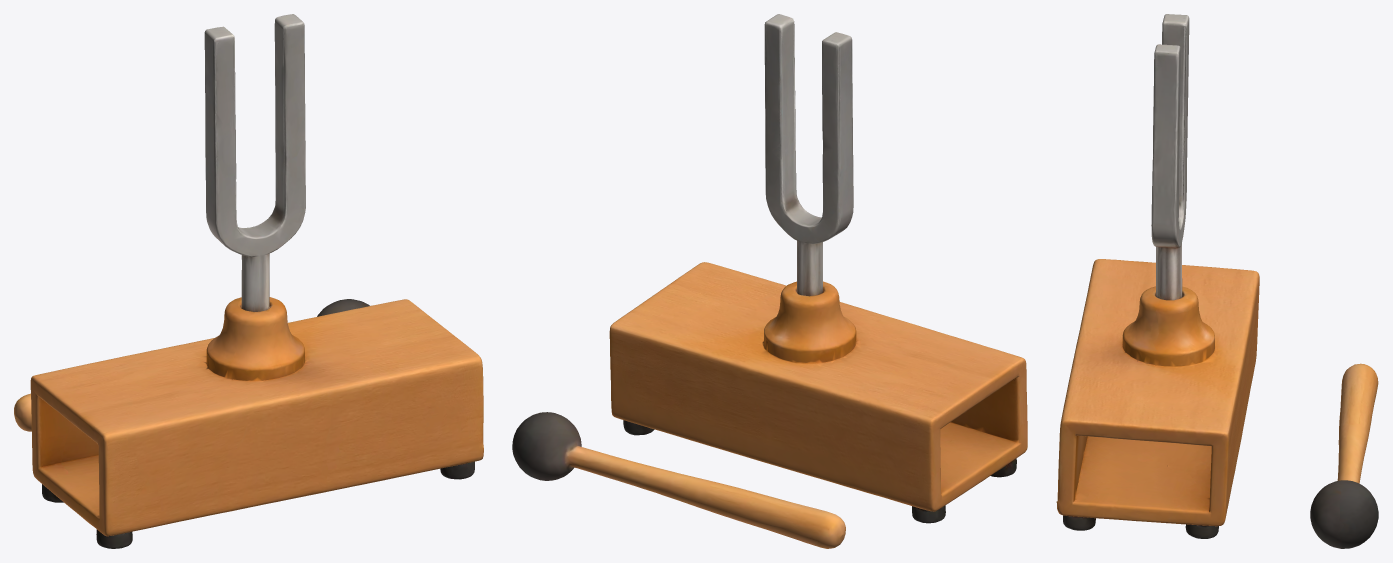
File: tuning-fork.glb
3 views of the same model, side by side, from view 1: azimuth 30°, elevation 25°; view 2: azimuth 150°, elevation 25°; view 3: azimuth 270°, elevation 25° (orthographic). The views are drawn at different scales.
Visible parts, largest first — view 1: tuning-fork; view 2: tuning-fork; view 3: tuning-fork.
Part boxes in pixels (x1,y1,x2,y2): tuning-fork: (14, 14, 483, 548); tuning-fork: (512, 14, 1027, 548); tuning-fork: (1056, 14, 1378, 548).
Bounding box in the file's own units: 0.2348 × 0.25 × 0.1705.
1 material, 1 textured.
